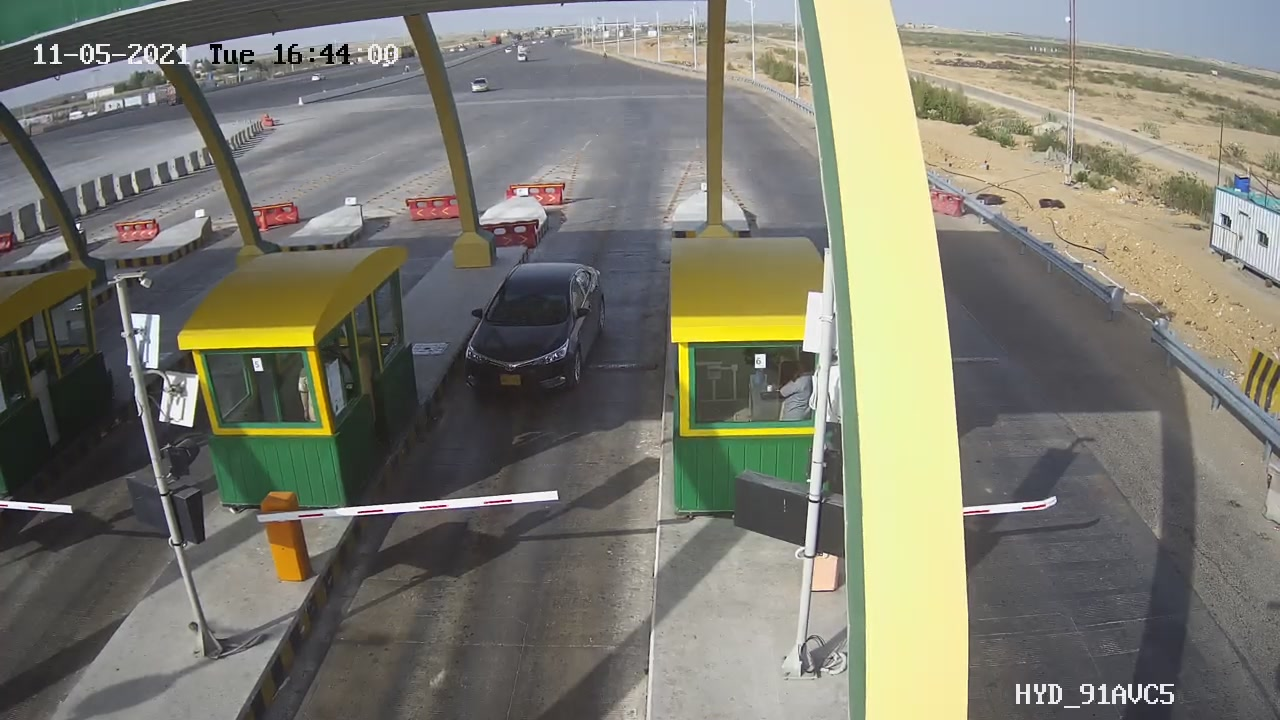F1: (437, 245, 628, 411)
